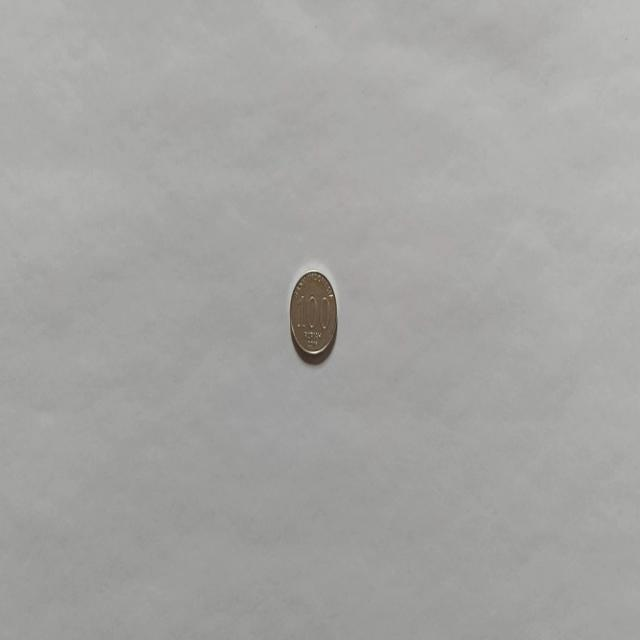seratus rupiah: (288, 268, 338, 362)
